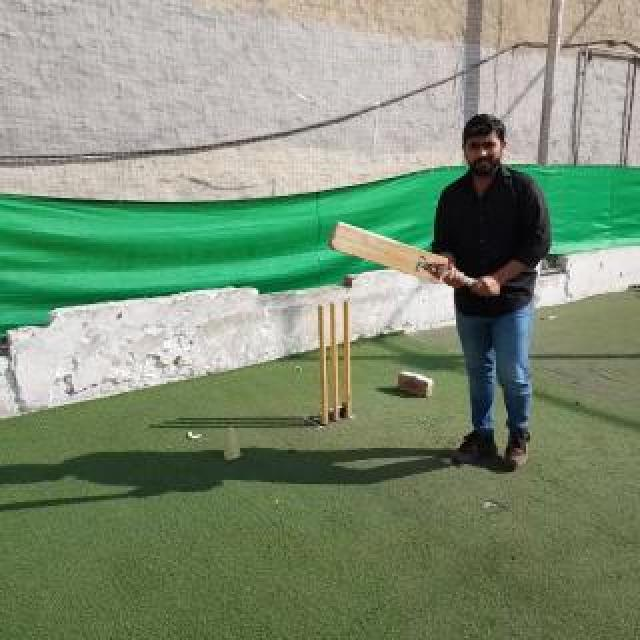bat: (327, 220, 501, 296)
